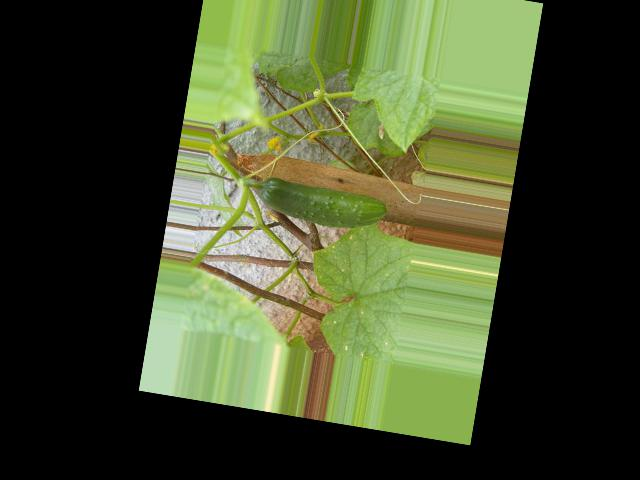cucumber: (255, 175, 389, 235)
